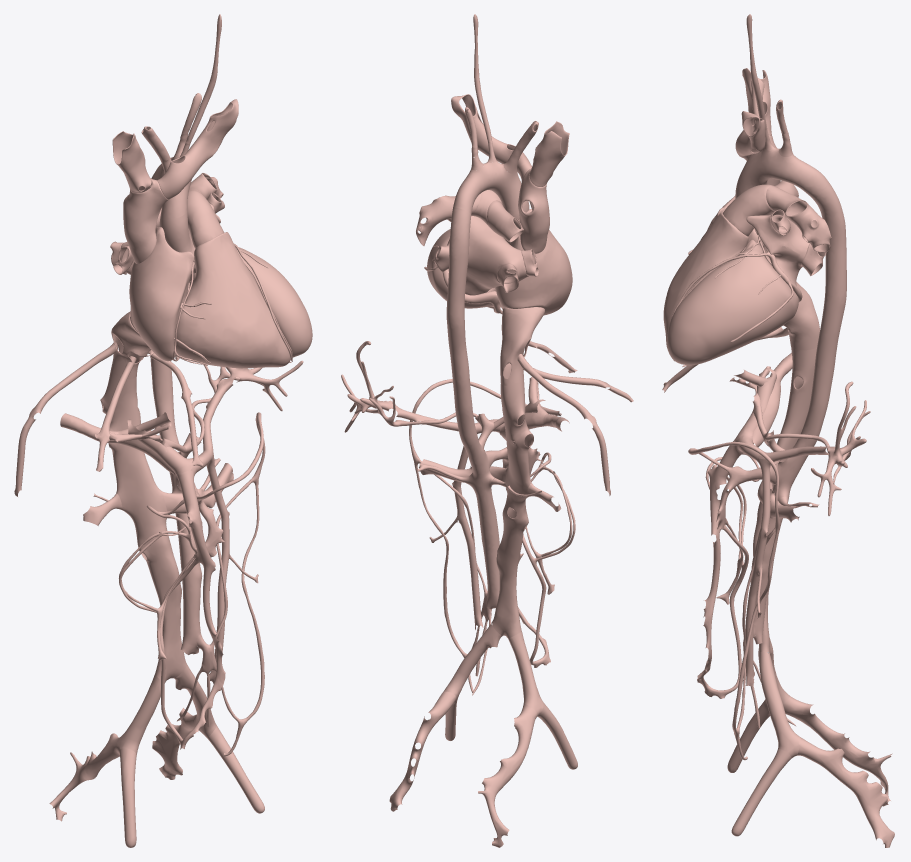
The model's file is lines.glb.
3 views of the same model, side by side, from view 1: azimuth 30°, elevation 25°; view 2: azimuth 150°, elevation 25°; view 3: azimuth 270°, elevation 25° (orthographic). The views are drawn at different scales.
Parts seen in each view (by area): view 1: abd_veins, rv, portal, ivc, abd_arteries, ra, aorta, brachio_veins, lv, svc, pulm_art, arch_branches (+2 smaller); view 2: abd_veins, aorta, ivc, portal, abd_arteries, ra, brachio_veins, la, pulm_art, svc, arch_branches, pulm_veins (+2 smaller); view 3: portal, aorta, abd_veins, lv, abd_arteries, ivc, pulm_art, rv, la, brachio_veins, arch_branches, cardiac_veins (+1 smaller).
Boxes of the visible parts, x1,y1,x2,y2 form: abd_veins: [14, 341, 264, 847]; rv: [174, 232, 290, 368]; portal: [60, 360, 303, 749]; ivc: [100, 311, 186, 680]; abd_arteries: [93, 365, 265, 756]; ra: [129, 227, 194, 361]; aorta: [150, 154, 202, 654]; brachio_veins: [112, 99, 238, 199]; lv: [189, 247, 312, 357]; svc: [123, 178, 168, 263]; pulm_art: [156, 173, 224, 248]; arch_branches: [141, 14, 221, 173]; abd_veins: [389, 341, 633, 847]; aorta: [446, 161, 529, 609]; ivc: [492, 307, 544, 638]; portal: [341, 341, 575, 667]; abd_arteries: [354, 379, 572, 695]; ra: [495, 209, 572, 315]; brachio_veins: [451, 94, 569, 186]; la: [447, 216, 528, 295]; pulm_art: [416, 190, 523, 245]; svc: [518, 168, 549, 253]; arch_branches: [465, 14, 538, 173]; pulm_veins: [432, 218, 538, 292]; portal: [697, 353, 866, 698]; aorta: [735, 147, 846, 644]; abd_veins: [662, 327, 894, 847]; lv: [667, 239, 798, 365]; abd_arteries: [688, 366, 870, 760]; ivc: [753, 282, 819, 653]; pulm_art: [722, 181, 831, 252]; rv: [663, 212, 748, 354]; la: [746, 215, 809, 285]; brachio_veins: [735, 68, 772, 159]; arch_branches: [746, 14, 792, 156]; cardiac_veins: [670, 249, 802, 366].
Bounding box in the file's own units: 2.36 × 6.49 × 1.65.
